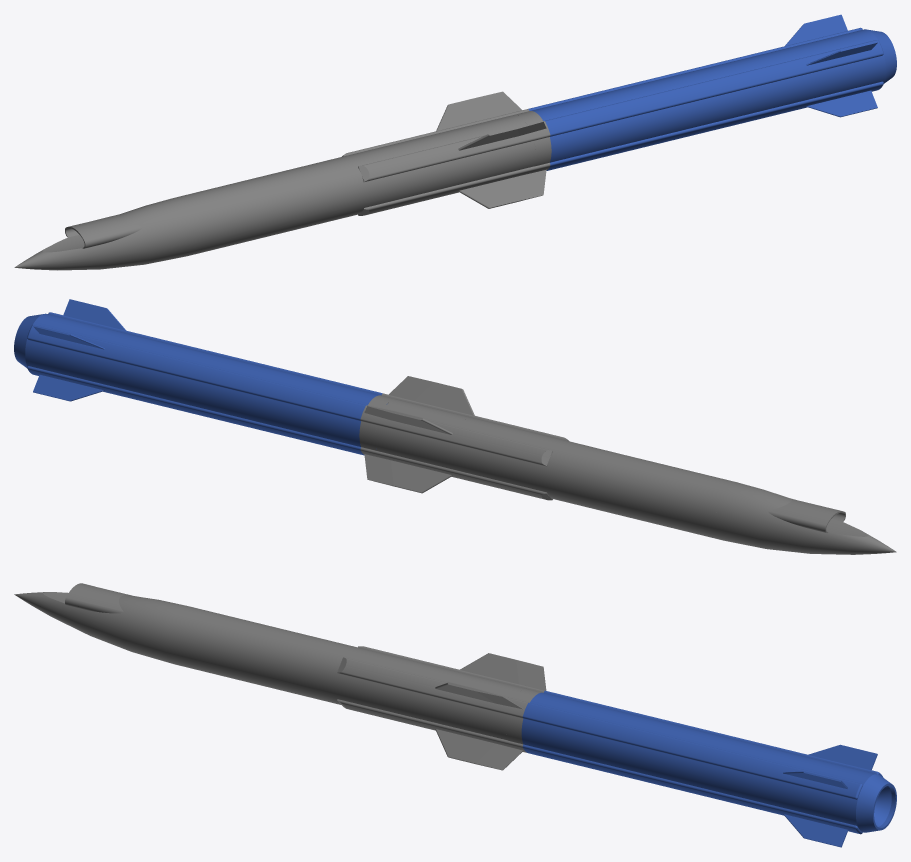
File: Halberd_Complete_V1.glb
The picture shows the model from 3 angles, top to bottom: view 1: azimuth 30°, elevation 25°; view 2: azimuth 150°, elevation 25°; view 3: azimuth 330°, elevation 25°; orthographic projection.
Parts seen in each view (by area): view 1: Halberd_Complete parts V1 (×2); view 2: Halberd_Complete parts V1 (×2); view 3: Halberd_Complete parts V1 (×2).
Part boxes in pixels (box(x1,y1,x2,y2)): Halberd_Complete parts V1 (×2): box(14, 14, 896, 270); Halberd_Complete parts V1 (×2): box(14, 299, 896, 554); Halberd_Complete parts V1 (×2): box(14, 583, 896, 847).
Size of the model in its own units: 4.7 by 0.3892 by 0.3892.
